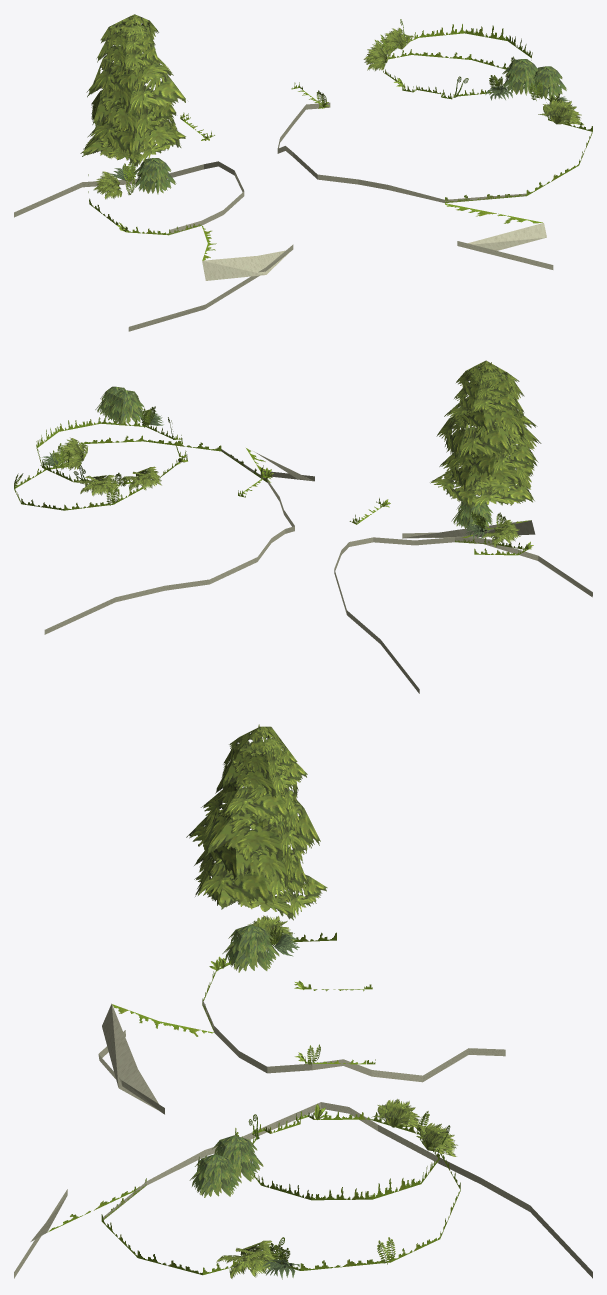
File: SpectacleIsland_Transparent.obj
3 views of the same model, one above another, from view 1: azimuth 30°, elevation 25°; view 2: azimuth 150°, elevation 25°; view 3: azimuth 270°, elevation 25° (orthographic). The views are drawn at different scales.
Visible parts, largest first — view 1: mesh-12, mesh-11, mesh-10, mesh-5, mesh-3, mesh-4; view 2: mesh-12, mesh-11, mesh-10, mesh-3, mesh-5, mesh-4; view 3: mesh-12, mesh-11, mesh-5, mesh-10, mesh-3, mesh-4.
Part boxes in pixels (box(x1,y1,x2,y2)): mesh-12: box(80, 14, 185, 166); mesh-11: box(14, 102, 553, 331); mesh-10: box(88, 24, 592, 260); mesh-5: box(134, 59, 566, 194); mesh-3: box(93, 28, 583, 199); mesh-4: box(111, 19, 568, 232); mesh-12: box(430, 360, 541, 508); mesh-11: box(44, 449, 592, 693); mesh-10: box(14, 417, 530, 555); mesh-3: box(59, 437, 520, 547); mesh-5: box(95, 386, 492, 529); mesh-4: box(14, 406, 533, 550); mesh-12: box(186, 724, 327, 920); mesh-11: box(14, 1000, 592, 1278); mesh-5: box(189, 924, 279, 1197); mesh-10: box(47, 932, 460, 1275); mesh-3: box(216, 915, 457, 1278); mesh-4: box(197, 926, 450, 1279).
Bounding box in the file's own units: 30.67 × 15.47 × 23.43.
6 materials, 6 textured.
